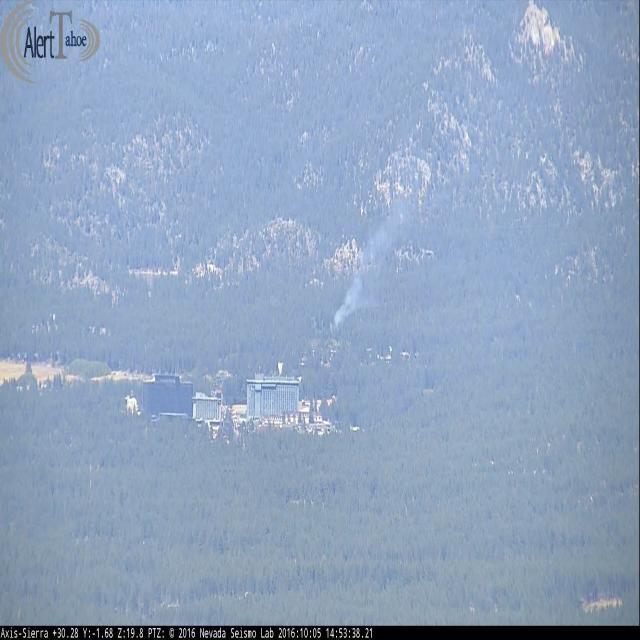smoke: (331, 204, 408, 328)
